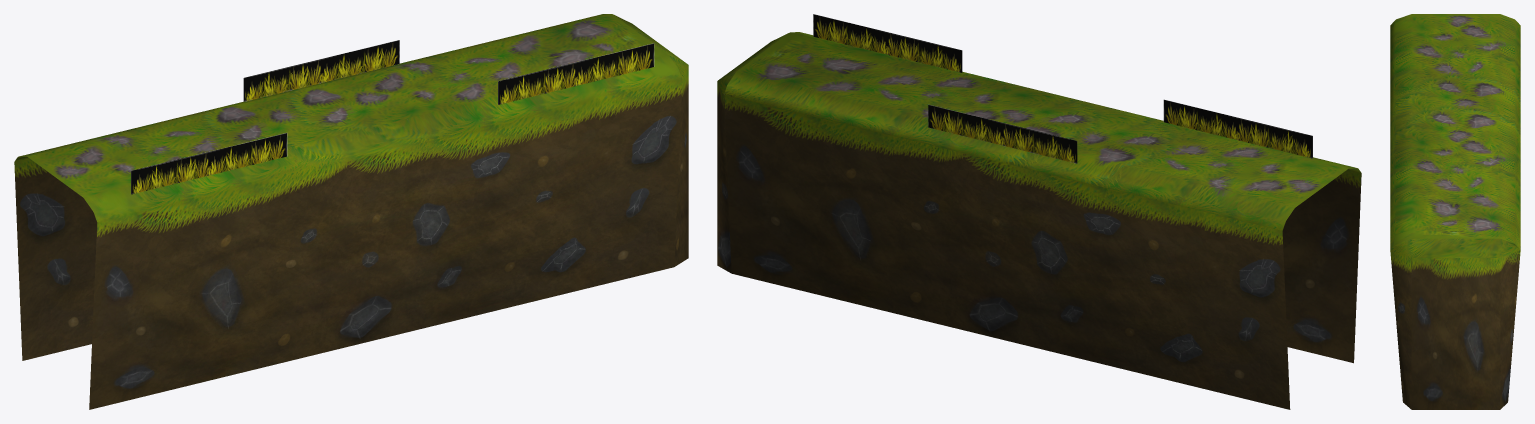
The model's file is platform_onder_met_afronding.fbx.
3 renders of one model, left to right at view 1: azimuth 30°, elevation 25°; view 2: azimuth 150°, elevation 25°; view 3: azimuth 270°, elevation 25°, orthographic. The views are drawn at different scales.
Visible parts, largest first — view 1: Plane; view 2: Plane; view 3: Plane.
Part boxes in pixels (left/top/right/bottom): Plane: left=14, top=14, right=688, bottom=409; Plane: left=717, top=14, right=1361, bottom=409; Plane: left=1390, top=14, right=1520, bottom=409.
Size of the model in its own units: 2169 by 782 by 514.
Materials: 1 (1 with a texture image).
